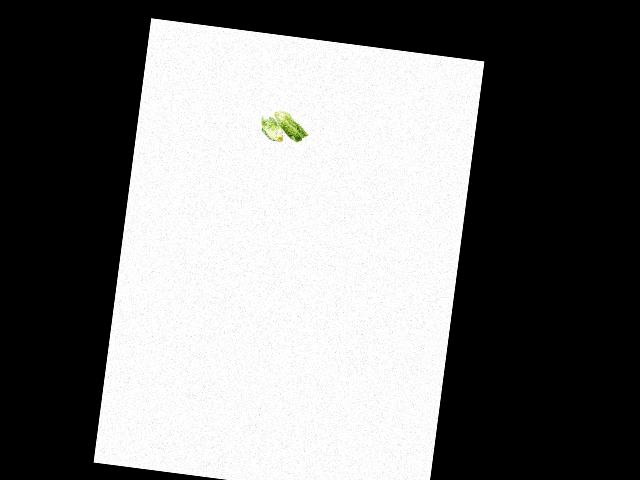lettuce: (256, 107, 309, 151)
